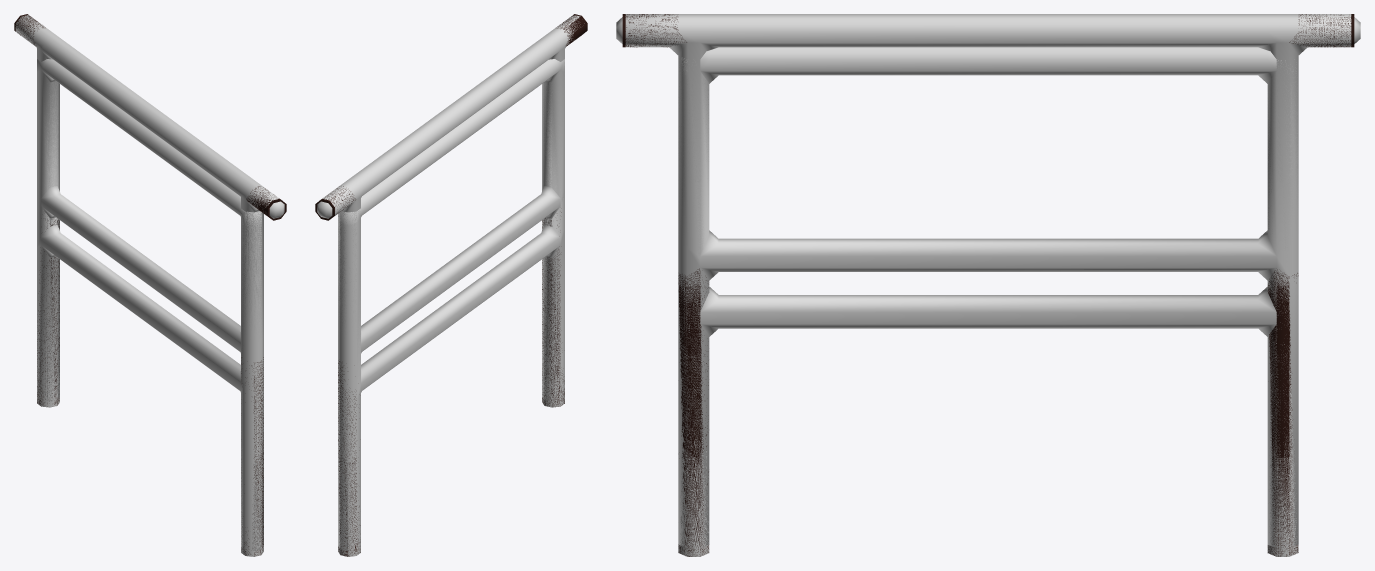
File: trzepak.fbx
3 views of the same model, side by side, from view 1: azimuth 30°, elevation 25°; view 2: azimuth 150°, elevation 25°; view 3: azimuth 270°, elevation 25° (orthographic). The views are drawn at different scales.
Visible parts, largest first — view 1: Plane, Plane.001, Plane.002; view 2: Plane, Plane.001, Plane.002; view 3: Plane.001, Plane, Plane.002.
Boxes of the visible parts, x1,y1,x2,y2 form: Plane: (37, 59, 263, 556); Plane.001: (15, 15, 284, 550); Plane.002: (14, 14, 286, 556); Plane: (338, 59, 564, 556); Plane.001: (317, 15, 584, 550); Plane.002: (315, 14, 587, 556); Plane.001: (616, 14, 1360, 547); Plane: (678, 47, 1298, 556); Plane.002: (622, 14, 1354, 556).
Size of the model in its own units: 10 by 190 by 240.
